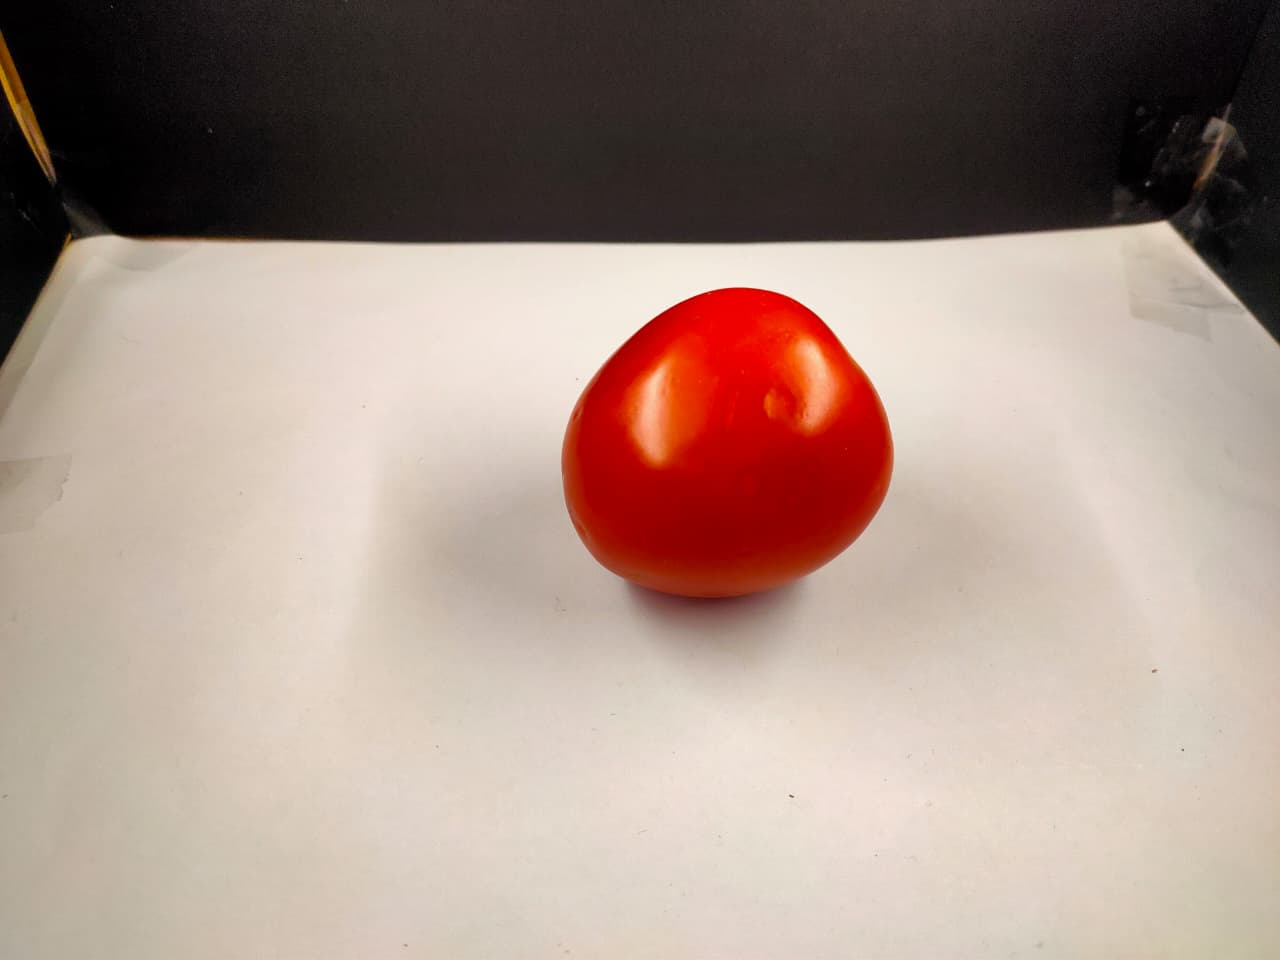ripe: (538, 275, 903, 636)
